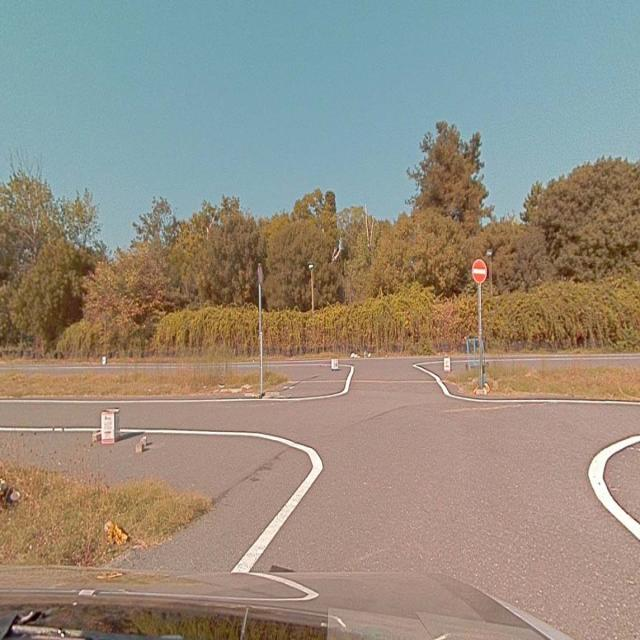girisyok: (473, 257, 487, 283)
